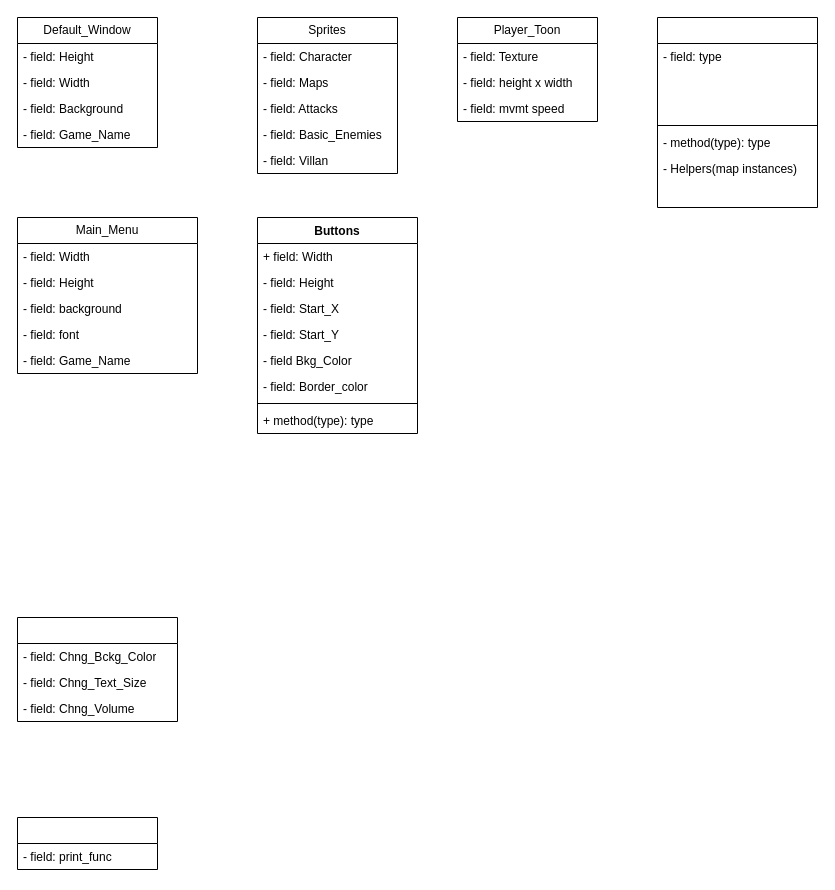
Image size: 835x890. Some labels were removed from this diagram. Each missing label, with the box of its shape:
Credits: (16, 816, 158, 870)
Maps: (656, 16, 818, 208)
Settings: (16, 616, 178, 722)
